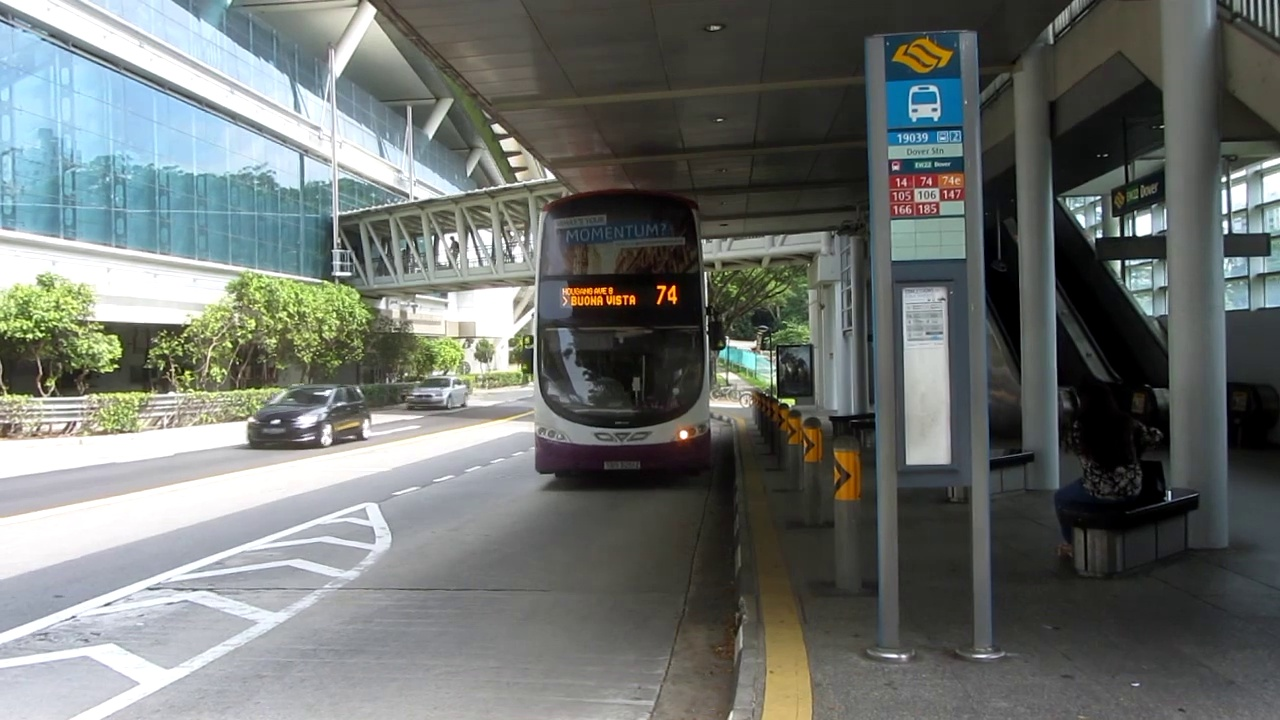bus panel: (559, 283, 680, 309)
